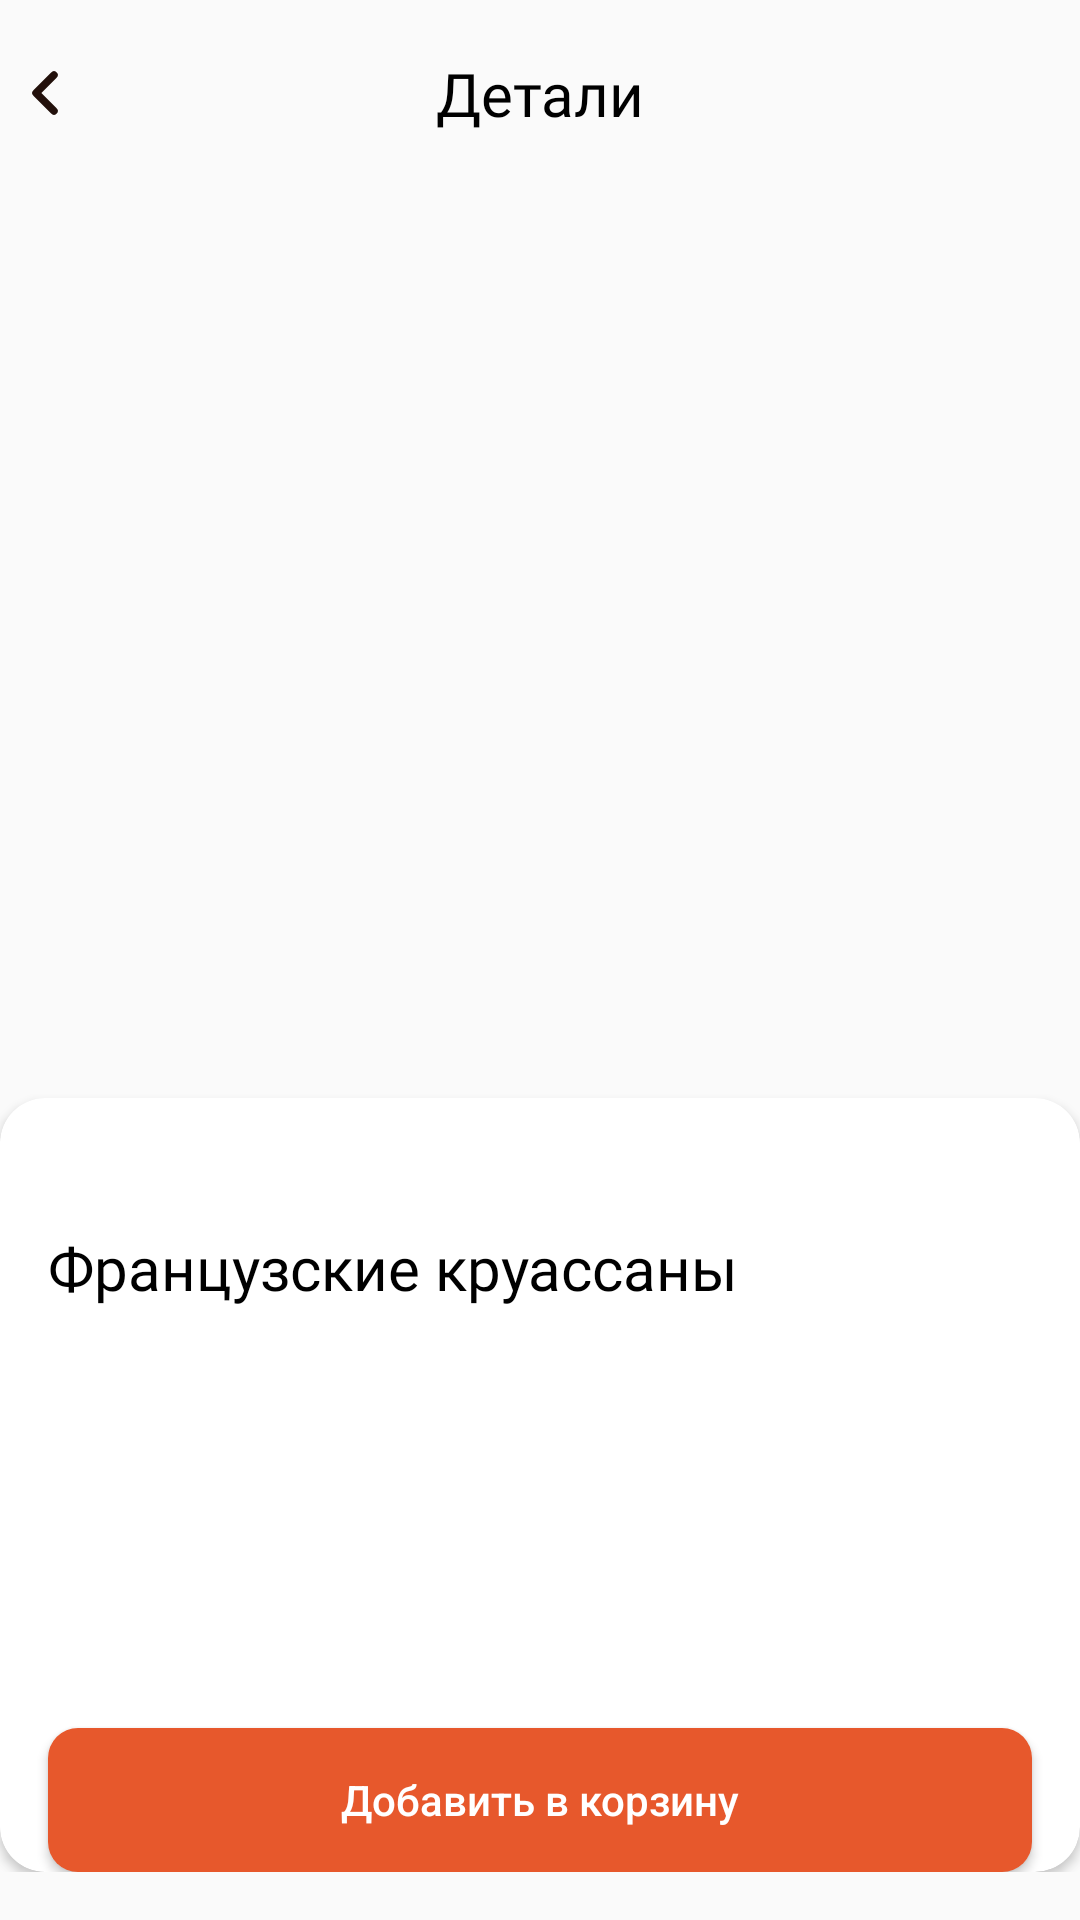

Icon click points for this 1080 × 1920 phone screenshot, format [x,y]:
arrow back: [45,93]
